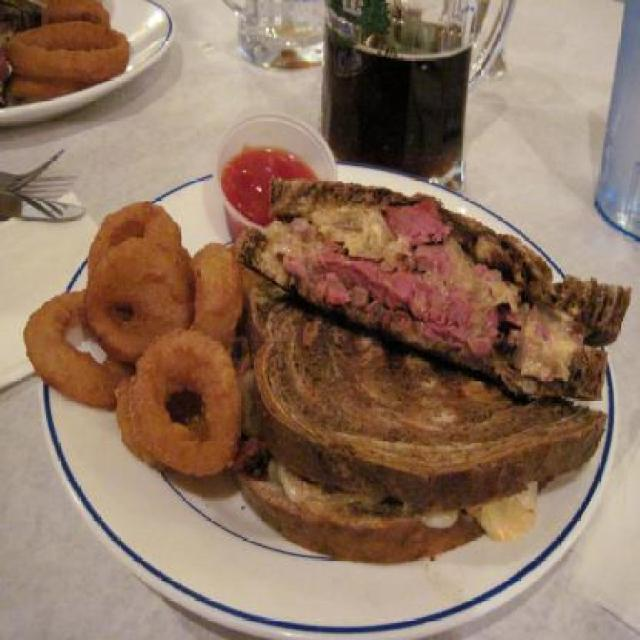Sandwich: (223, 176, 634, 562)
